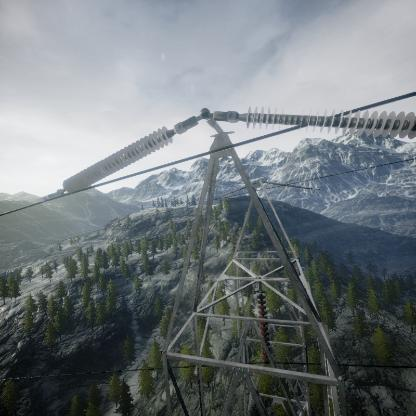insulator: (47, 114, 196, 201), (212, 105, 416, 140), (254, 293, 274, 367)
